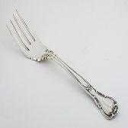Fork: (5, 7, 127, 126)
